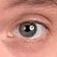eye: (20, 23, 36, 37)
